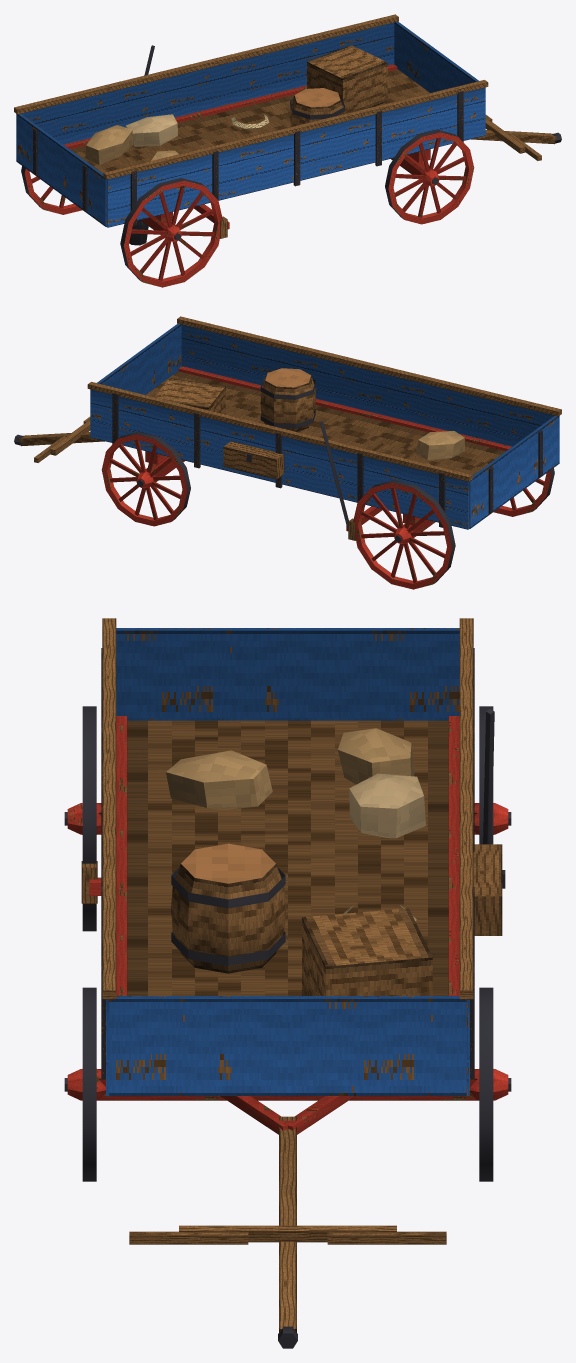
Rendered from p_wagon_open.glb.
3 renders of one model, top to bottom at view 1: azimuth 30°, elevation 25°; view 2: azimuth 150°, elevation 25°; view 3: azimuth 270°, elevation 25°, orthographic. The views are drawn at different scales.
Parts seen in each view (by area): view 1: p_wagon_open_lod0; view 2: p_wagon_open_lod0; view 3: p_wagon_open_lod0.
Boxes of the visible parts, x1,y1,x2,y2 form: p_wagon_open_lod0: [14, 14, 561, 287]; p_wagon_open_lod0: [14, 316, 561, 589]; p_wagon_open_lod0: [64, 618, 511, 1348].
Size of what is drawn, in the model's own units: 5.82 by 1.62 by 2.25.
2 materials, 1 textured.
